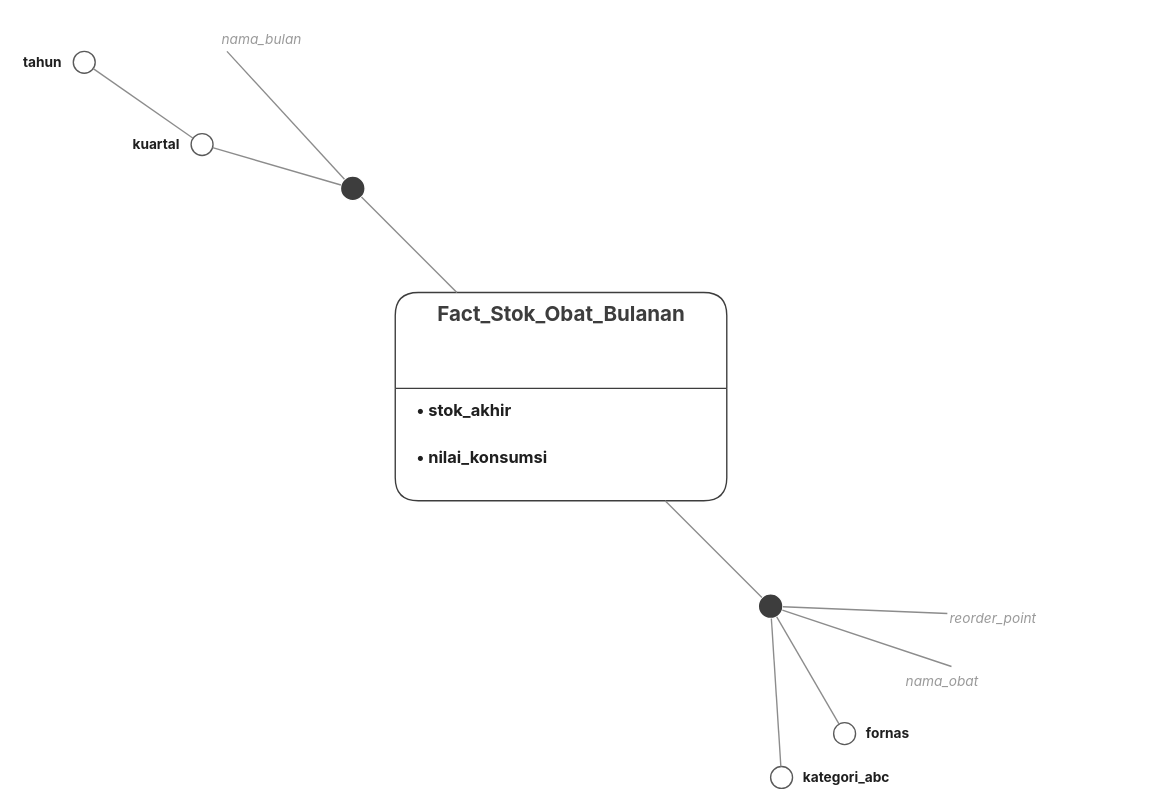
Some shapes in this 1149 by 812 pixel diagram are drawn without their labels. Each missing label, with the centre of its shape:
"bulan" belongs at point 352,188.
"id_obat" belongs at point 770,606.
